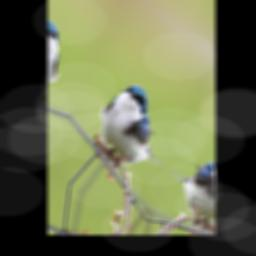Swallow: (85, 69, 184, 195)
